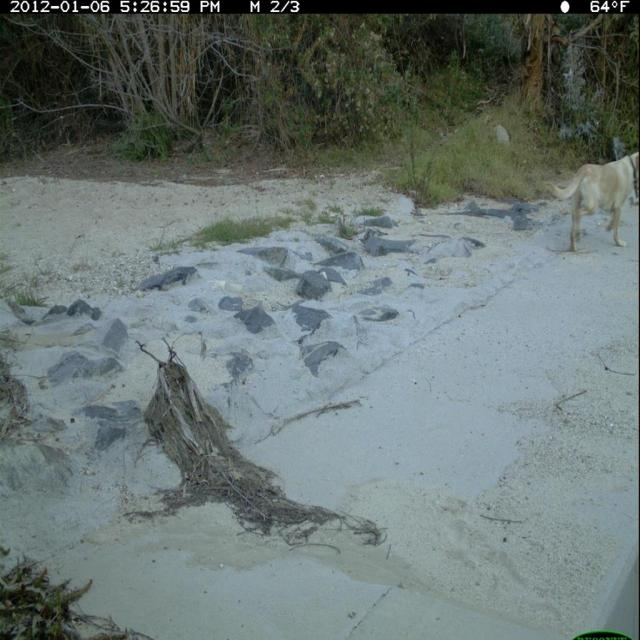dog: (545, 142, 640, 256)
